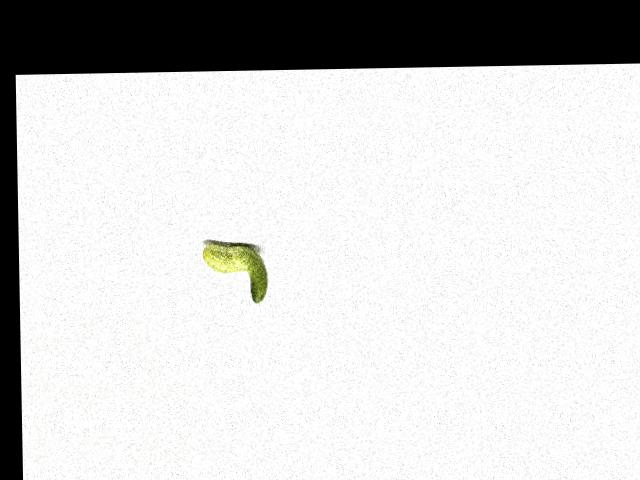cucumber: (202, 242, 268, 303)
